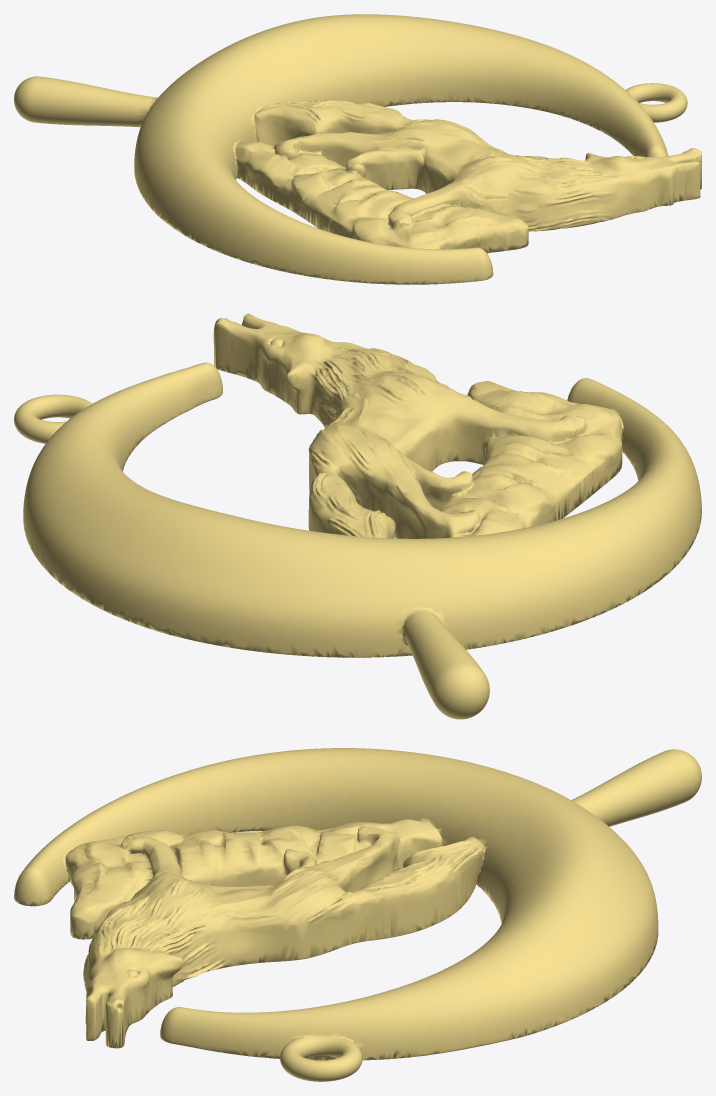
File: bozkurt_yuzuk.glb
The picture shows the model from 3 angles, top to bottom: view 1: azimuth 30°, elevation 25°; view 2: azimuth 150°, elevation 25°; view 3: azimuth 270°, elevation 25°; orthographic projection. The views are drawn at different scales.
Parts seen in each view (by area): view 1: Renderer Node; view 2: Renderer Node; view 3: Renderer Node.
Boxes of the visible parts, box(x1,y1,x2,y2) form: Renderer Node: box(14, 14, 701, 284); Renderer Node: box(14, 313, 701, 719); Renderer Node: box(14, 748, 701, 1081).
Bounding box in the file's own units: 23.21 × 3.05 × 22.48.
